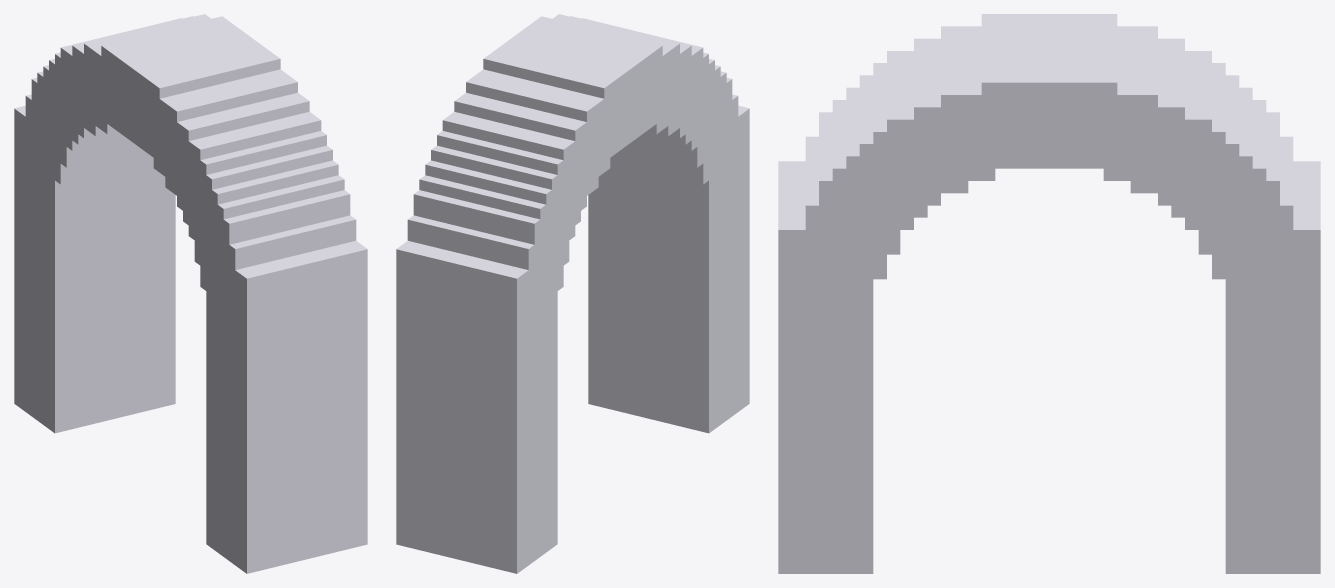
Rendered from Puertesita.obj.
3 views of the same model, side by side, from view 1: azimuth 30°, elevation 25°; view 2: azimuth 150°, elevation 25°; view 3: azimuth 270°, elevation 25° (orthographic). The views are drawn at different scales.
Size of the model in its own units: 1.2 by 4 by 4.
